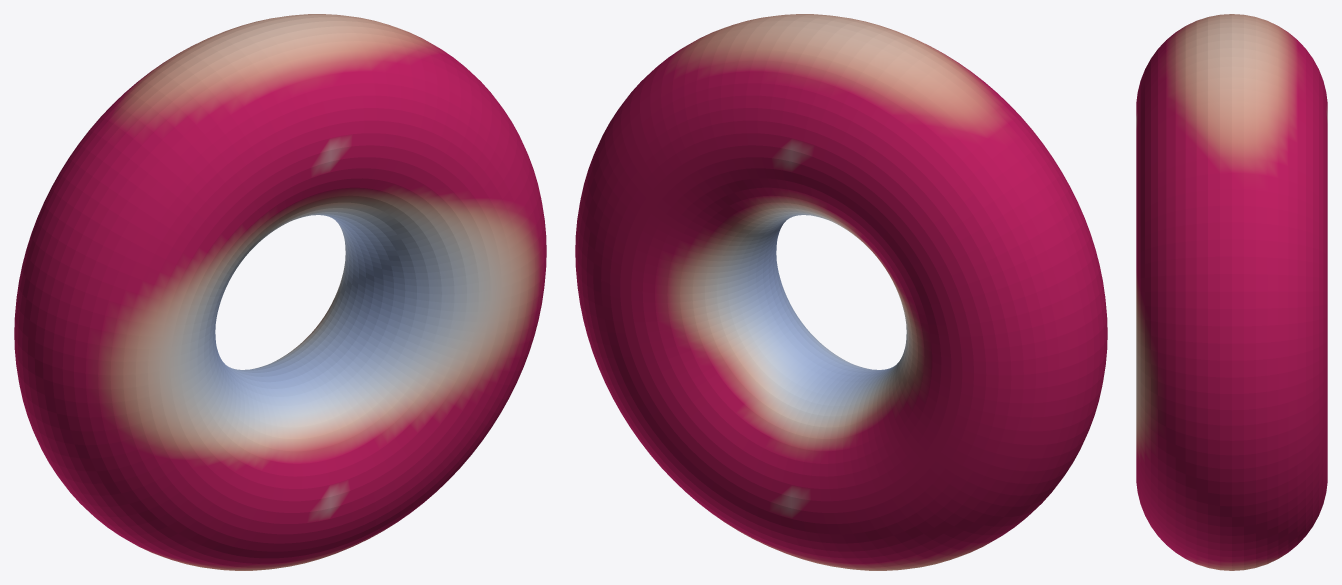
3 views of the same model, side by side, from view 1: azimuth 30°, elevation 25°; view 2: azimuth 150°, elevation 25°; view 3: azimuth 270°, elevation 25° (orthographic). The views are drawn at different scales.
Parts seen in each view (by area): view 1: world; view 2: world; view 3: world.
Boxes of the visible parts, x1,y1,x2,y2 form: world: (14, 14, 546, 570); world: (575, 14, 1107, 570); world: (1136, 14, 1327, 570).
Size of the model in its own units: 27.47 by 27.47 by 9.45.
